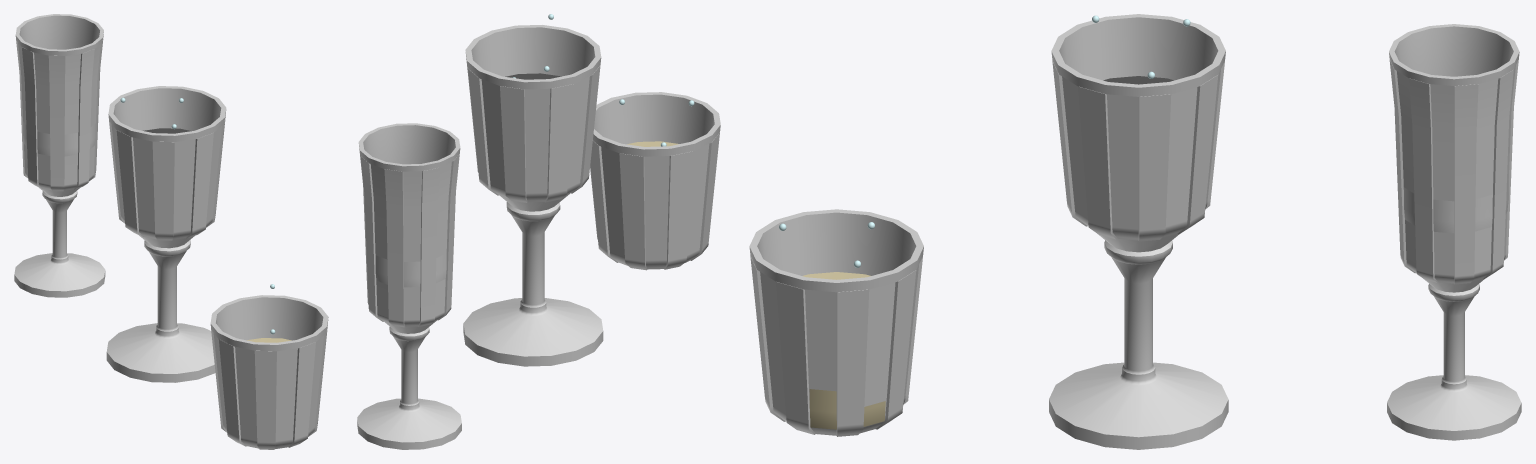
The model's file is Soda.fbx.
3 renders of one model, left to right at view 1: azimuth 30°, elevation 25°; view 2: azimuth 150°, elevation 25°; view 3: azimuth 270°, elevation 25°, orthographic. The views are drawn at different scales.
Parts seen in each view (by area): view 1: polySurface1, polySurface11, polySurface3; view 2: polySurface1, polySurface11, polySurface3; view 3: polySurface1, polySurface11, polySurface3, polySurface4.
Boxes of the visible parts, left/top/right/bottom form: polySurface1: left=106, top=86, right=226, bottom=382; polySurface11: left=14, top=14, right=105, bottom=297; polySurface3: left=210, top=295, right=328, bottom=449; polySurface1: left=463, top=25, right=603, bottom=366; polySurface11: left=357, top=123, right=461, bottom=449; polySurface3: left=590, top=92, right=720, bottom=270; polySurface1: left=1049, top=14, right=1228, bottom=449; polySurface11: left=1387, top=24, right=1521, bottom=440; polySurface3: left=749, top=209, right=923, bottom=436; polySurface4: left=802, top=272, right=885, bottom=429.
Size of the model in its own units: 2.55 by 6.23 by 10.97.
